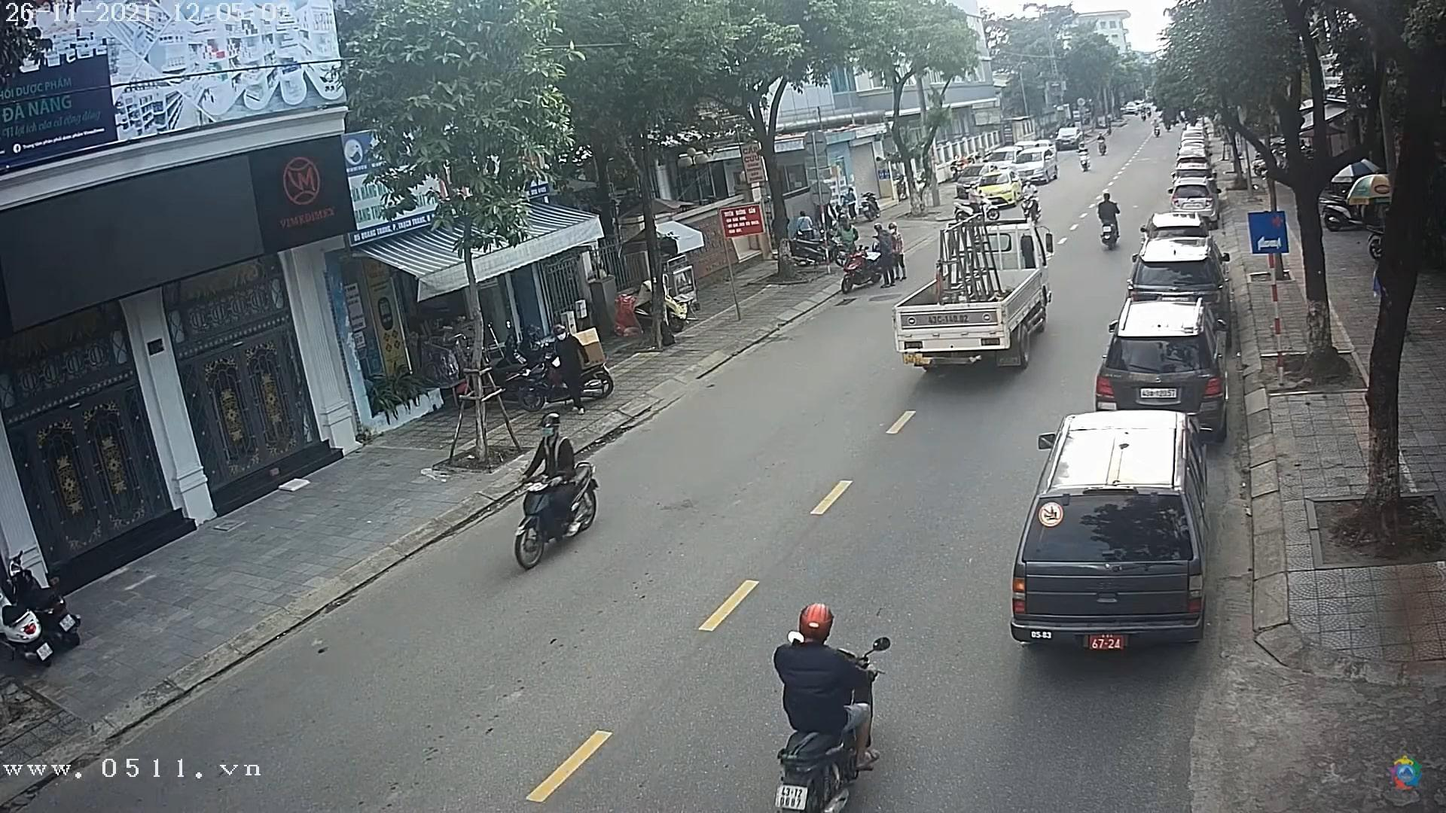car: (1015, 413, 1207, 650), (1095, 300, 1227, 421), (1128, 236, 1230, 302), (1170, 183, 1219, 215), (1170, 158, 1211, 180), (1055, 125, 1086, 150)
motorbike: (513, 458, 598, 571), (1093, 217, 1128, 250)
truck: (897, 215, 1056, 368)
